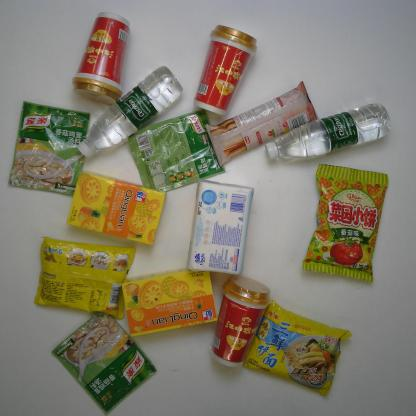Dessert: (201, 78, 316, 172), (67, 168, 168, 246), (122, 269, 216, 338)
Drink: (79, 65, 179, 159), (263, 101, 396, 159)
Instant Drink: (71, 10, 131, 105), (198, 22, 257, 112), (214, 275, 270, 369)
Instant Noodles: (249, 304, 353, 399), (32, 234, 142, 320)
Puffed Food: (302, 162, 393, 288)
Seasoner: (47, 312, 156, 410), (128, 109, 223, 202), (11, 92, 86, 204)
Tissue: (185, 177, 256, 275)
